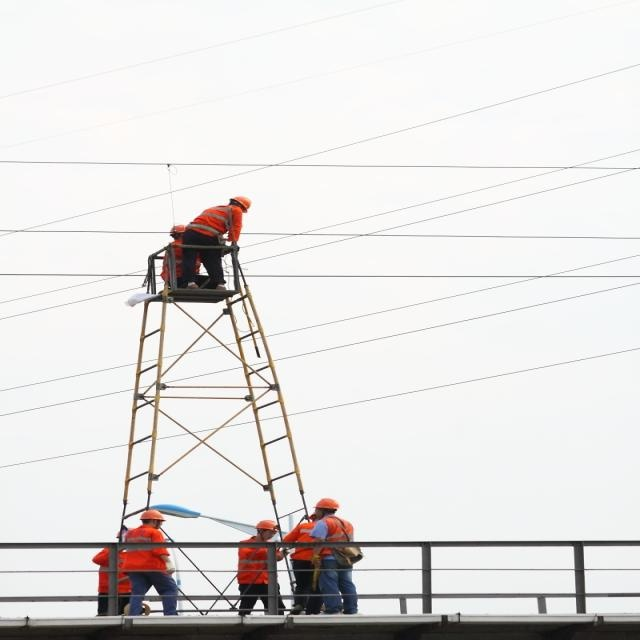Con_Chaleco: (122, 528, 170, 574), (191, 204, 241, 236), (312, 516, 352, 554)
